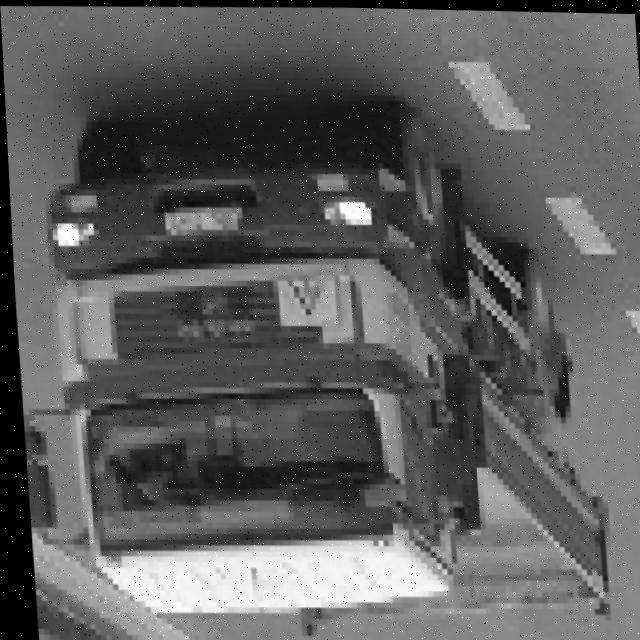truck: (6, 114, 496, 640)
